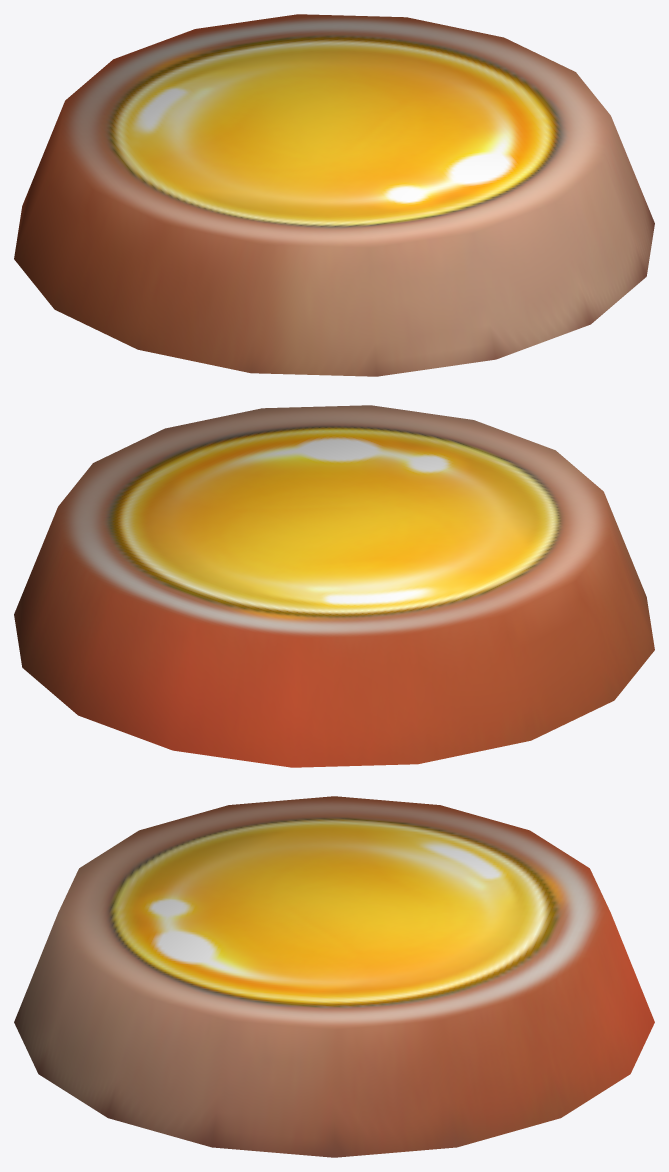
File: LvlButtonUnLockModel.FBX
The picture shows the model from 3 angles, top to bottom: view 1: azimuth 30°, elevation 25°; view 2: azimuth 150°, elevation 25°; view 3: azimuth 270°, elevation 25°; orthographic projection.
Parts seen in each view (by area): view 1: LvlButtonUnLockModel; view 2: LvlButtonUnLockModel; view 3: LvlButtonUnLockModel.
Boxes of the visible parts, bbox=[...] form: LvlButtonUnLockModel: bbox=[14, 14, 654, 376]; LvlButtonUnLockModel: bbox=[14, 405, 654, 767]; LvlButtonUnLockModel: bbox=[14, 796, 654, 1157].
Bounding box in the file's own units: 58.15 × 58.15 × 10.94.
Materials: 1 (1 with a texture image).
